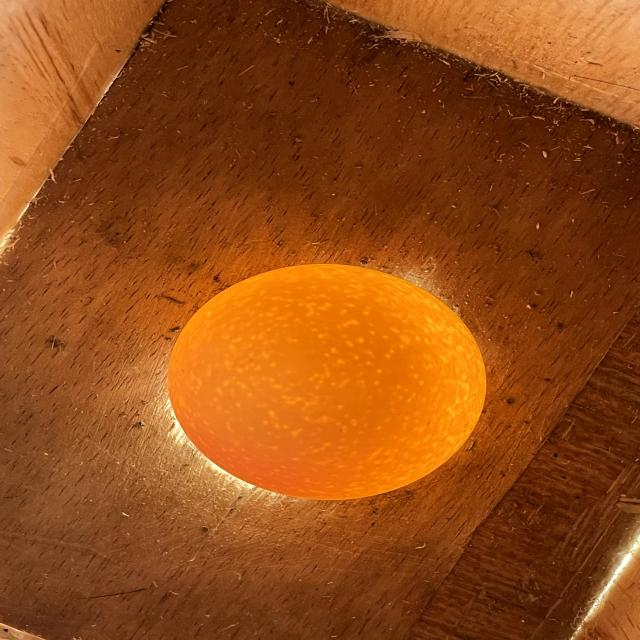infertile: (168, 264, 487, 500)
